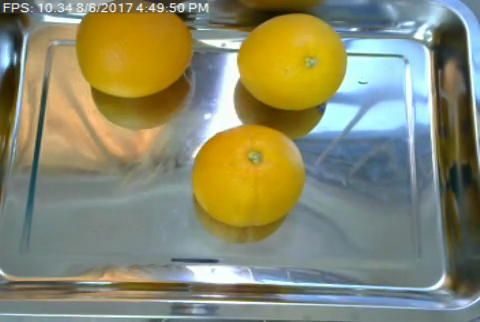Orange: (190, 123, 309, 230), (76, 1, 195, 98), (237, 13, 349, 111)
